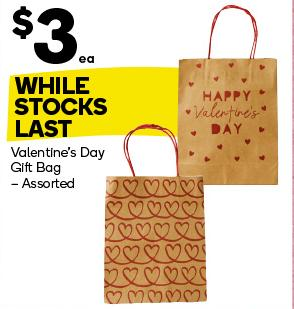description_block: (2, 141, 106, 198)
price_main: (4, 3, 102, 66)
product_image_block: (156, 6, 286, 207)
promo_text_block: (0, 68, 177, 140)
